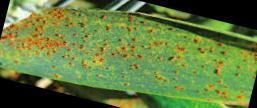Wheat: (4, 30, 122, 70), (146, 26, 177, 89), (210, 41, 244, 97), (182, 35, 205, 89)
